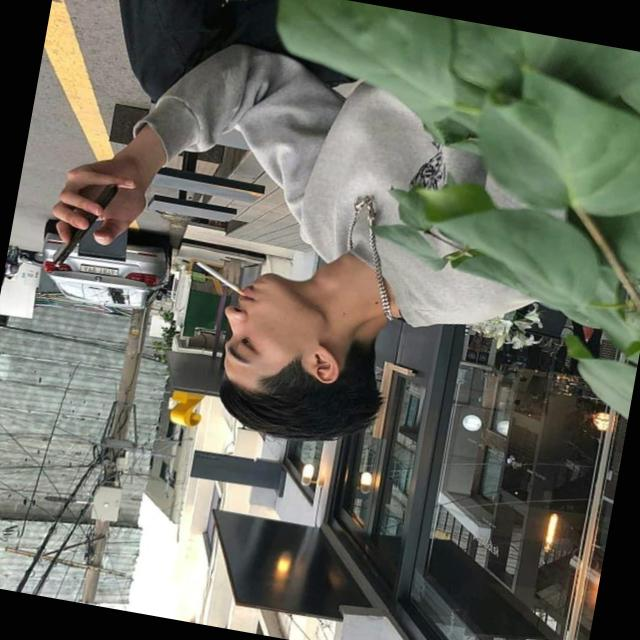smoke: (168, 243, 279, 312)
